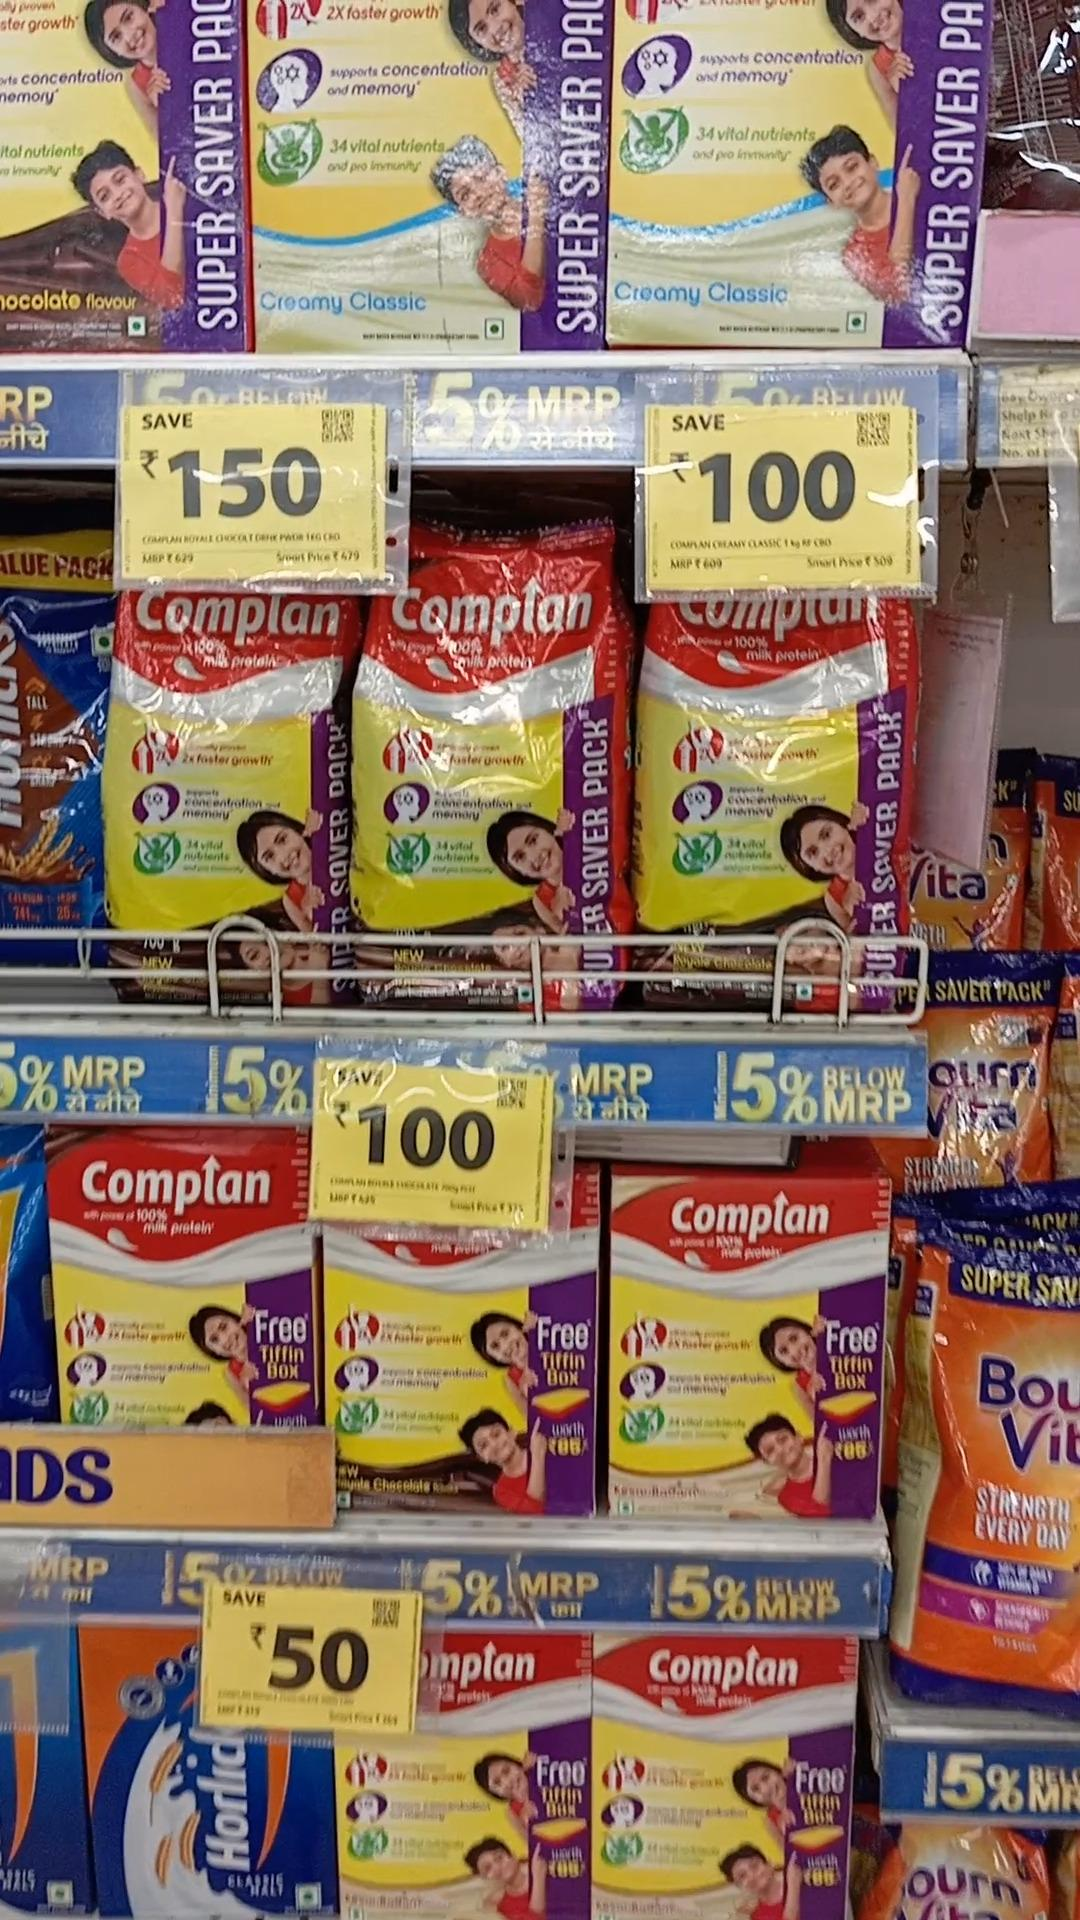COMPLAN_CHOCOLATE_500_GMS_PACK: (328, 1224, 596, 1522), (46, 1134, 314, 1422)
COMPLAN_KESAR_BADAM_500_GMS_PACK: (615, 1184, 886, 1522), (596, 1629, 848, 1920), (338, 1630, 585, 1920)
COMPLAN_RC_POUCH_700_GMS_12: (363, 531, 624, 1007), (636, 607, 905, 1011), (105, 596, 342, 1007)
HORLICK_CLASSIC_MALT_500_G_PACK: (86, 1622, 326, 1920)
